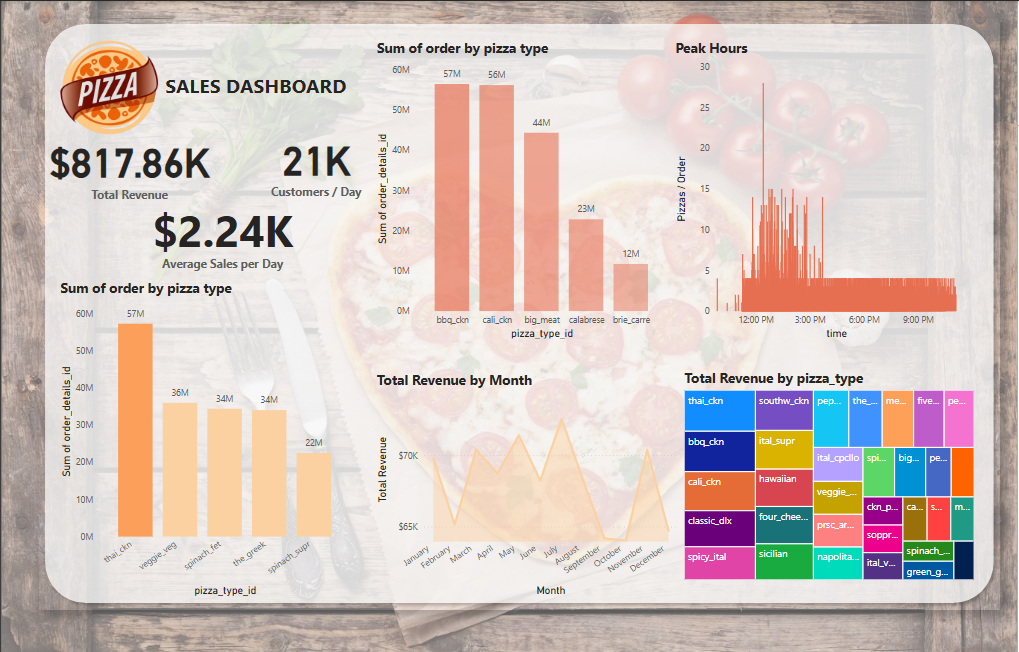

What the dashboard file says about the page in this screenshot:
{"tool":"powerbi","page":{"name":"Page 2","canvas":[1400,900],"ordinal":0},"visuals":[{"type":"shape","box":[51.8,22.8,1325.2,815.8],"z":0},{"type":"clusteredColumnChart","title":"Sum of order by pizza type","fields":{"Y":["Sum(order_details.order_details_id)"],"Category":["pizzas.pizza_type_id"]},"box":[76.5,382.4,409.3,442.3],"z":1000},{"type":"card","fields":{"Values":["order_details.Customers / Day"]},"box":[258.4,101.3,303.8,310],"z":2000},{"type":"stackedAreaChart","fields":{"Category":["orders.date.Variation.Date Hierarchy.Month"],"Y":["order_details.Total Revenue"]},"box":[512.6,508.5,423.7,316.2],"z":3000},{"type":"card","fields":{"Values":["order_details.Total Revenue"]},"box":[0,80.6,355.5,349.3],"z":4000},{"type":"clusteredColumnChart","title":"Peak Hours","fields":{"Category":["orders.time"],"Y":["order_details.Pizzas / Order"]},"box":[923.5,51.8,420.3,418.3],"z":5000},{"type":"treemap","title":"Total Revenue by pizza_type","fields":{"Group":["pizzas.pizza_type_id"],"Values":["order_details.Total Revenue"]},"box":[936.3,506.4,409.3,295.6],"z":6000},{"type":"clusteredColumnChart","title":"Sum of order by pizza type","fields":{"Y":["Sum(order_details.order_details_id)"],"Category":["pizzas.pizza_type_id"]},"box":[513.5,51.8,410,418.3],"z":7000},{"type":"image","box":[76.5,45.5,144.7,146.8],"z":8000},{"type":"textbox","box":[221.2,93,264.6,64.1],"z":9000}]}

Visuals, with their boxes in screenshot pixels (x1, y1, x2, y2), scaled from the page's 1400x900 canvas onto the 1019x652 screenshot:
shape: bbox=[38, 17, 1002, 608]
"Sum of order by pizza type" clusteredColumnChart: bbox=[56, 277, 354, 597]
card - order_details.Customers / Day: bbox=[188, 73, 409, 298]
stackedAreaChart - orders.date.Variation.Date Hierarchy.Month x order_details.Total Revenue: bbox=[373, 368, 681, 597]
card - order_details.Total Revenue: bbox=[0, 58, 259, 311]
"Peak Hours" clusteredColumnChart: bbox=[672, 38, 978, 341]
"Total Revenue by pizza_type" treemap: bbox=[681, 367, 979, 581]
"Sum of order by pizza type" clusteredColumnChart: bbox=[374, 38, 672, 341]
image: bbox=[56, 33, 161, 139]
textbox: bbox=[161, 67, 354, 114]
